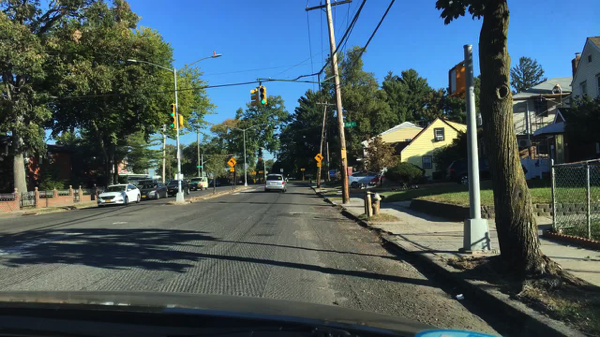car: (444, 157, 491, 186), (96, 184, 141, 208), (347, 170, 381, 189), (140, 183, 169, 201), (264, 173, 287, 194), (164, 180, 190, 197), (188, 176, 209, 191), (134, 180, 158, 191), (368, 174, 387, 186), (208, 179, 222, 188), (281, 174, 289, 184)
traffic light: (447, 65, 464, 98), (259, 86, 267, 105), (250, 87, 258, 106), (169, 117, 177, 131), (169, 103, 175, 117), (179, 115, 184, 129), (258, 157, 261, 162)
traffic sign: (226, 158, 237, 167), (314, 154, 323, 163), (342, 122, 357, 127), (243, 163, 248, 169), (229, 168, 235, 172), (316, 163, 321, 167), (280, 168, 283, 173), (300, 168, 305, 171), (252, 172, 257, 175), (196, 166, 202, 168), (258, 171, 262, 174), (265, 166, 270, 168)
